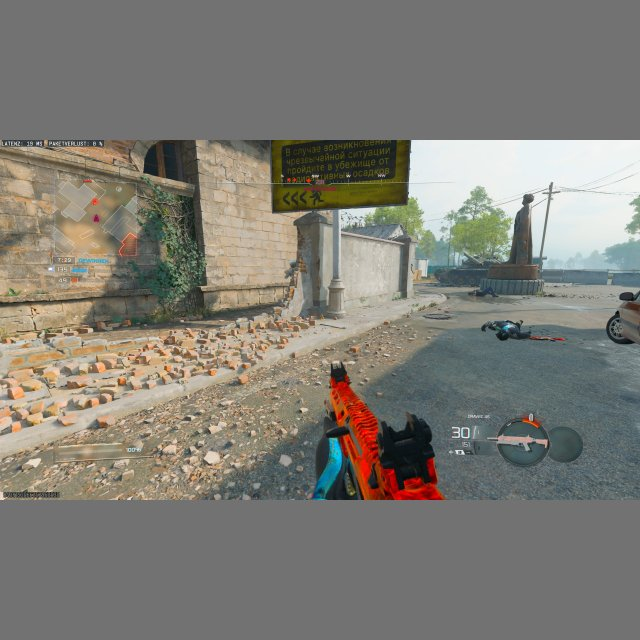player: (283, 258, 300, 303)
